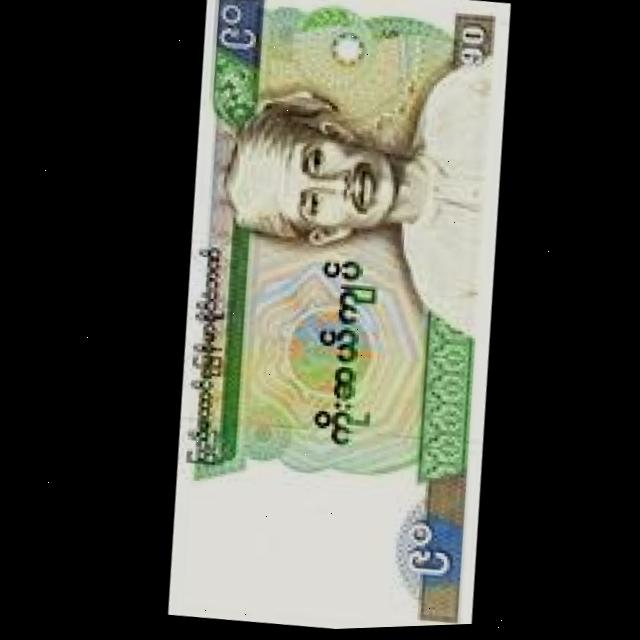banknote: (131, 0, 528, 636)
